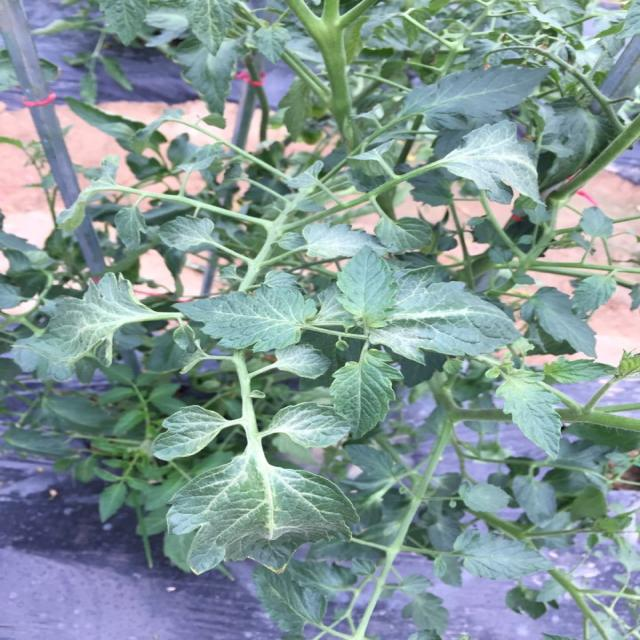Healthy Leaf: (168, 460, 363, 575), (319, 275, 521, 365), (13, 272, 142, 383), (173, 287, 319, 354), (401, 69, 552, 133), (448, 122, 547, 207), (332, 356, 404, 440), (497, 380, 564, 459), (341, 246, 399, 330), (60, 158, 122, 236), (153, 406, 227, 463), (467, 537, 554, 581), (273, 403, 351, 449), (305, 224, 388, 261), (187, 1, 238, 56), (101, 1, 153, 46), (159, 217, 218, 252), (545, 357, 615, 385), (572, 275, 619, 314), (278, 346, 329, 379)
